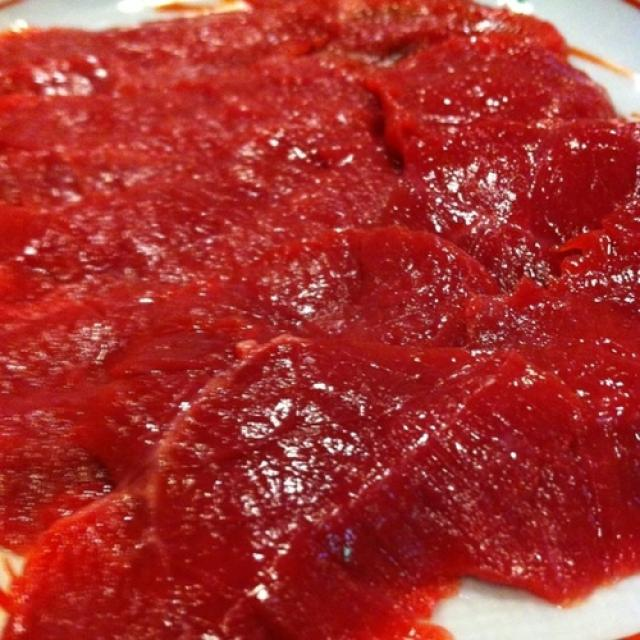刺身生食: (1, 12, 630, 616)
